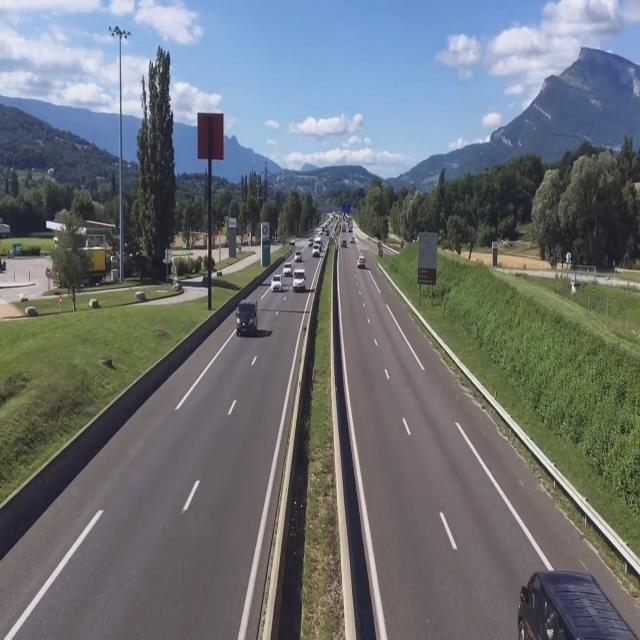car: (514, 572, 639, 640), (236, 301, 258, 339), (291, 268, 305, 292), (272, 274, 286, 293)
